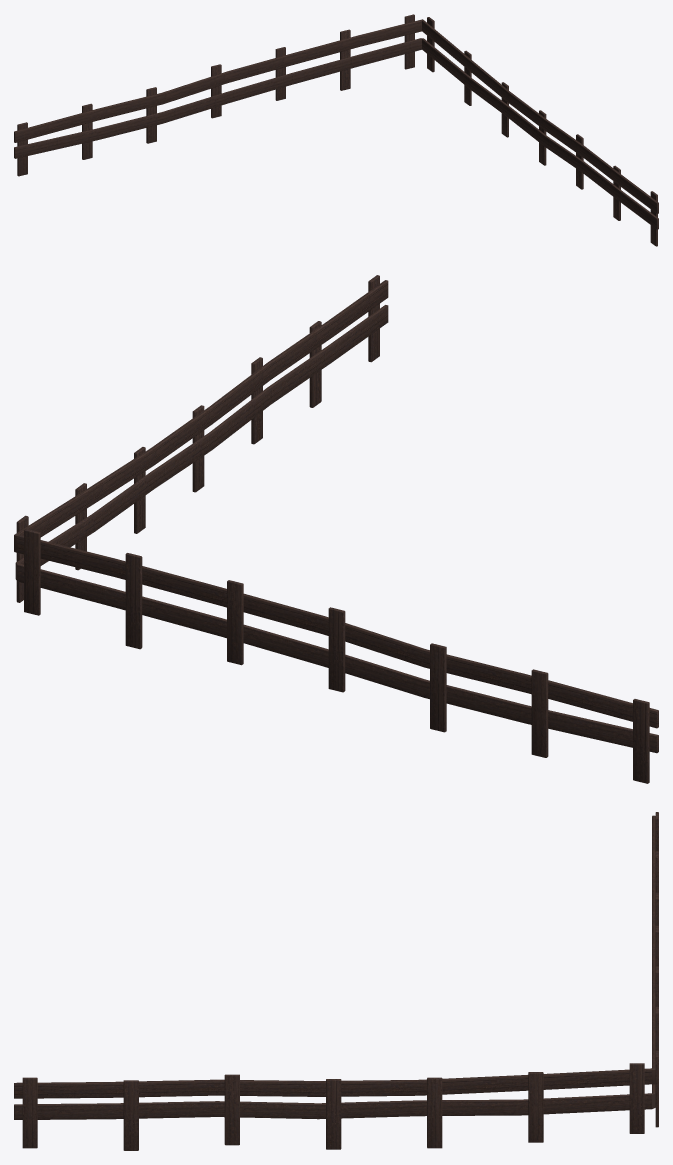
The model's file is fence-large.glb.
3 renders of one model, top to bottom at view 1: azimuth 30°, elevation 25°; view 2: azimuth 150°, elevation 25°; view 3: azimuth 270°, elevation 25°, orthographic. The views are drawn at different scales.
Visible parts, largest first — view 1: Cube; view 2: Cube; view 3: Cube.
Boxes of the visible parts, x1,y1,x2,y2 form: Cube: [14, 14, 658, 246]; Cube: [14, 275, 658, 783]; Cube: [14, 812, 658, 1150].
Size of the model in its own units: 3.83 by 0.5809 by 3.83.
1 material, 1 textured.
